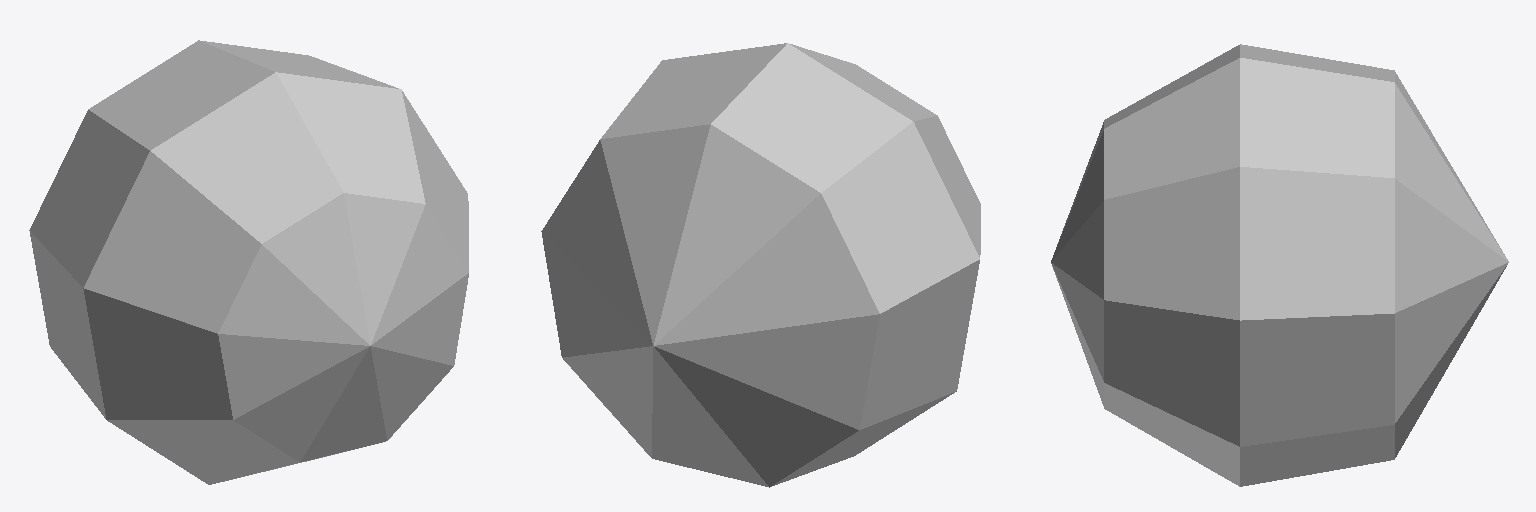
The model's file is mesha.obj.
3 renders of one model, left to right at view 1: azimuth 30°, elevation 25°; view 2: azimuth 150°, elevation 25°; view 3: azimuth 270°, elevation 25°, orthographic.
Parts seen in each view (by area): view 1: Sphere01; view 2: Sphere01; view 3: Sphere01.
Boxes of the visible parts, x1=… form: Sphere01: x1=29, y1=40, x2=468, y2=484; Sphere01: x1=541, y1=43, x2=980, y2=487; Sphere01: x1=1051, y1=44, x2=1508, y2=486.
Size of the model in its own units: 1012 by 997 by 1044.